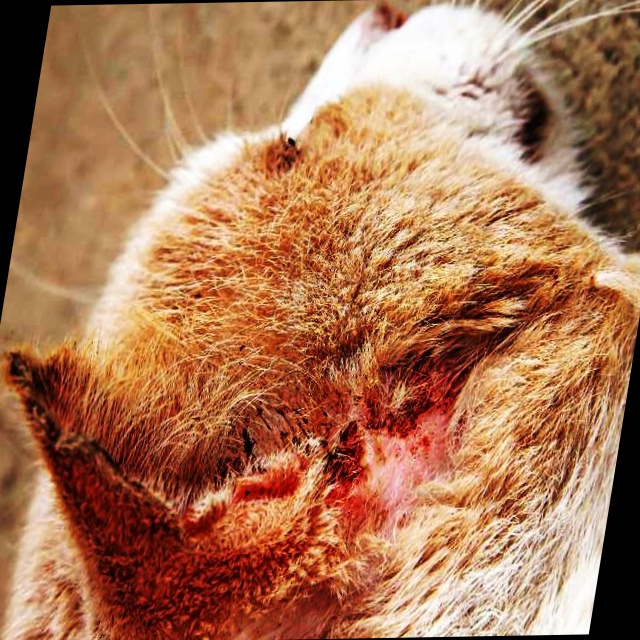ringworm: (232, 352, 490, 498)
